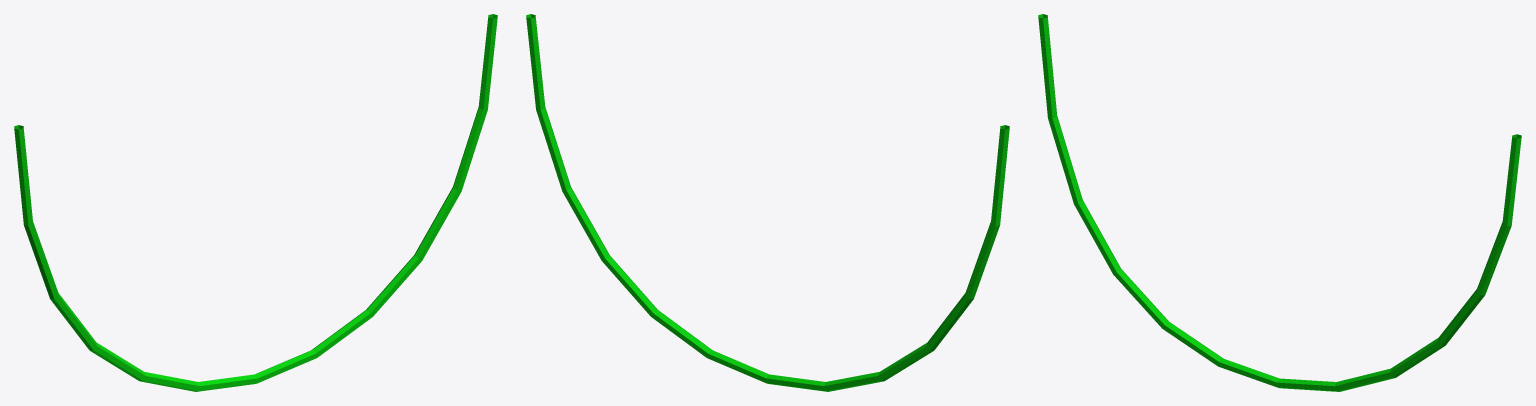
Rendered from Liane.fbx.
3 renders of one model, left to right at view 1: azimuth 30°, elevation 25°; view 2: azimuth 150°, elevation 25°; view 3: azimuth 330°, elevation 25°, orthographic.
Parts seen in each view (by area): view 1: BezierCurve; view 2: BezierCurve; view 3: BezierCurve.
Part boxes in pixels (x1=…): BezierCurve: x1=14, y1=14, x2=497, y2=391; BezierCurve: x1=526, y1=14, x2=1009, y2=391; BezierCurve: x1=1038, y1=14, x2=1521, y2=391.
Size of the model in its own units: 519 by 323 by 8.66.
